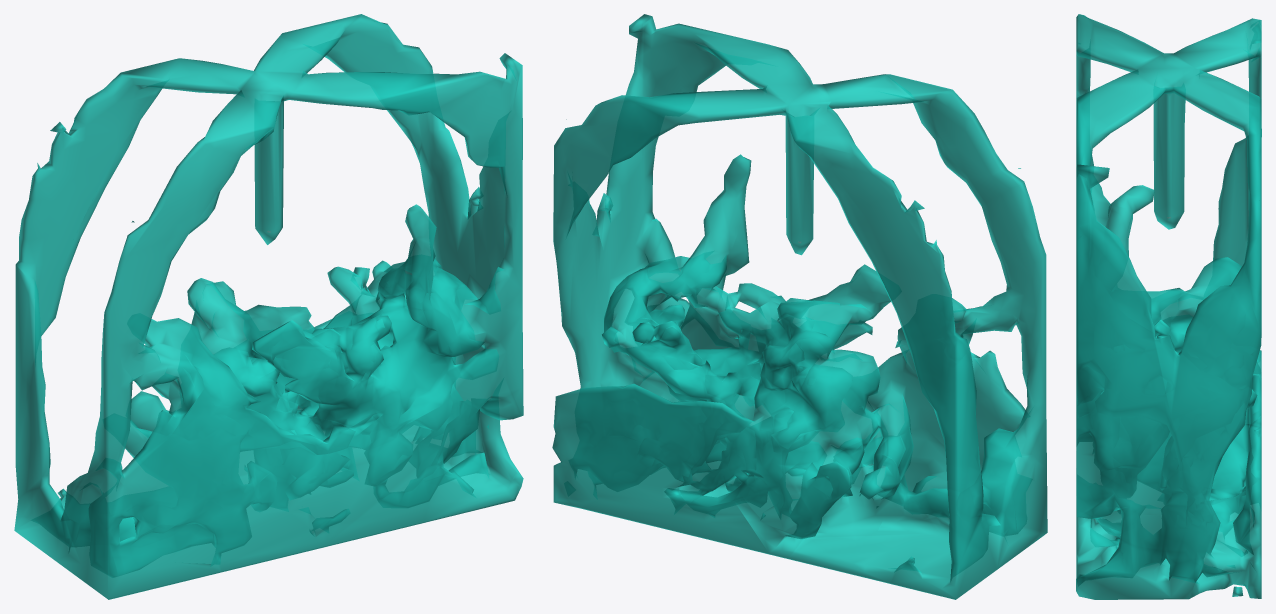
3 renders of one model, left to right at view 1: azimuth 30°, elevation 25°; view 2: azimuth 150°, elevation 25°; view 3: azimuth 270°, elevation 25°, orthographic. The views are drawn at different scales.
Visible parts, largest first — view 1: Liquid_Domain; view 2: Liquid_Domain; view 3: Liquid_Domain.
Part boxes in pixels (left/top/right/bottom): Liquid_Domain: left=14, top=14, right=523, bottom=599; Liquid_Domain: left=552, top=14, right=1047, bottom=599; Liquid_Domain: left=1076, top=14, right=1261, bottom=599.
Bounding box in the file's own units: 1965 × 1966 × 766.
